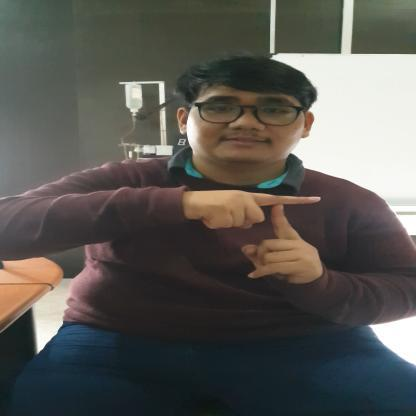T: (186, 188, 326, 284)
